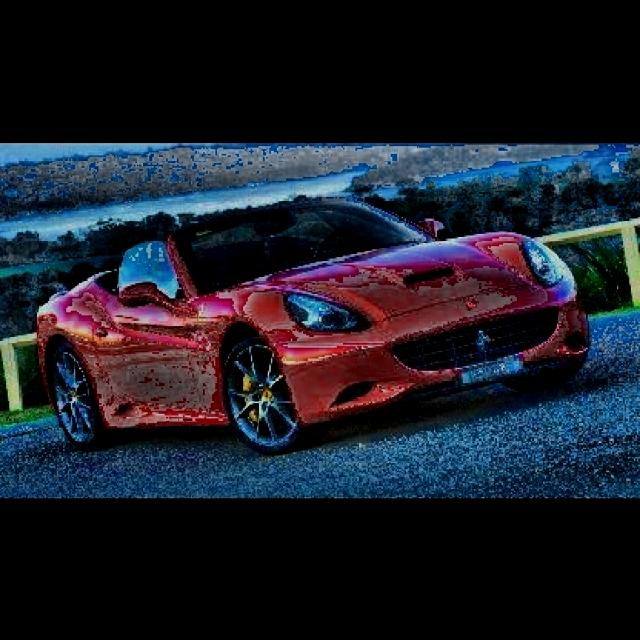maroon: (39, 193, 590, 455)
